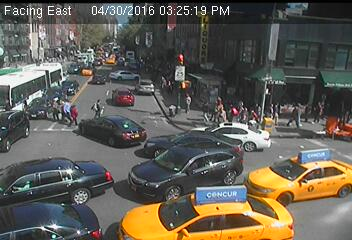neg: (267, 143, 297, 184), (15, 147, 42, 183), (112, 188, 138, 222), (184, 173, 209, 206), (314, 55, 338, 88), (250, 58, 274, 90), (162, 47, 185, 77), (193, 36, 216, 66), (50, 44, 72, 73), (124, 121, 145, 149), (97, 55, 116, 80), (122, 34, 141, 58), (20, 49, 38, 73)
pos: (288, 102, 306, 126), (42, 98, 58, 120), (56, 98, 72, 120), (69, 105, 85, 126), (197, 100, 212, 120), (181, 93, 196, 113), (215, 107, 229, 125), (314, 102, 327, 120), (93, 98, 105, 115)
